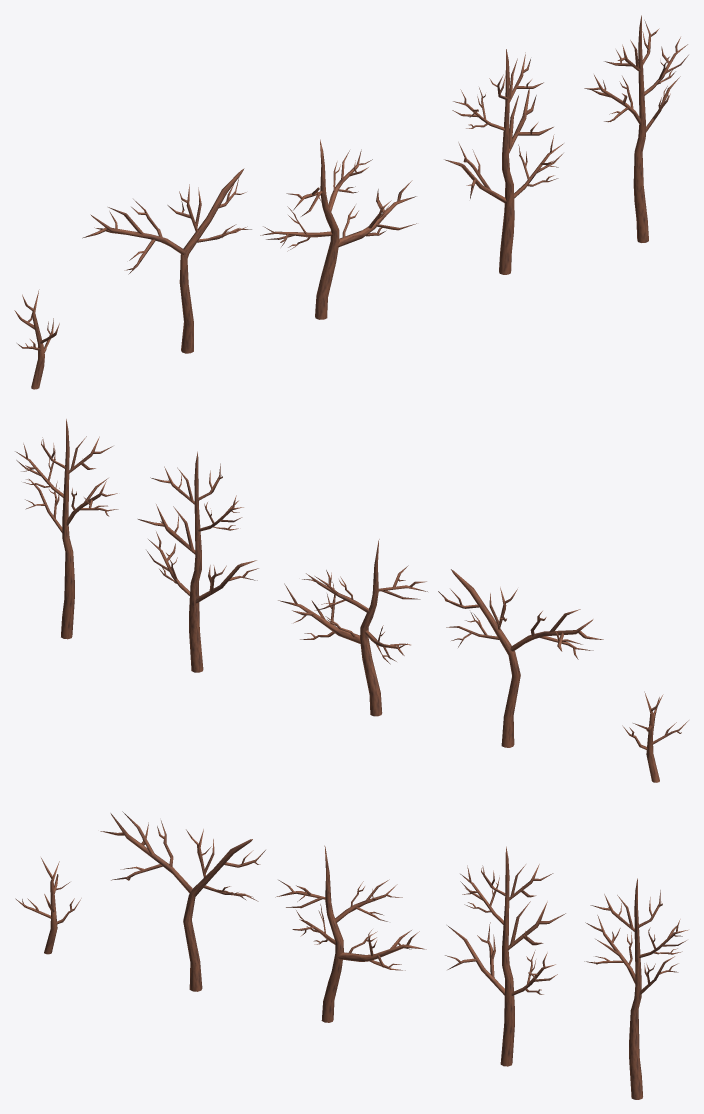
The model's file is dead_trees_free_model_b_lo.glb.
3 views of the same model, one above another, from view 1: azimuth 30°, elevation 25°; view 2: azimuth 150°, elevation 25°; view 3: azimuth 330°, elevation 25° (orthographic). The views are drawn at different scales.
Parts seen in each view (by area): view 1: DeadTree_2, DeadTree_3, DeadTree_4, DeadTree_1, DeadTree_5; view 2: DeadTree_2, DeadTree_3, DeadTree_1, DeadTree_4, DeadTree_5; view 3: DeadTree_2, DeadTree_3, DeadTree_1, DeadTree_4, DeadTree_5.
Part boxes in pixels (x1,y1,x2,y2): DeadTree_2: (444, 49, 563, 274); DeadTree_3: (260, 139, 416, 319); DeadTree_4: (82, 168, 251, 353); DeadTree_1: (584, 15, 688, 242); DeadTree_5: (14, 289, 59, 389); DeadTree_2: (138, 451, 258, 672); DeadTree_3: (278, 539, 427, 716); DeadTree_1: (15, 419, 118, 639); DeadTree_4: (438, 569, 603, 747); DeadTree_5: (622, 691, 688, 782); DeadTree_2: (445, 846, 565, 1066); DeadTree_3: (275, 845, 426, 1022); DeadTree_1: (584, 878, 687, 1099); DeadTree_4: (100, 811, 265, 991); DeadTree_5: (15, 858, 81, 954).
Size of the model in its own units: 19.55 by 6.2 by 1.72.
Materials: 1 (1 with a texture image).
